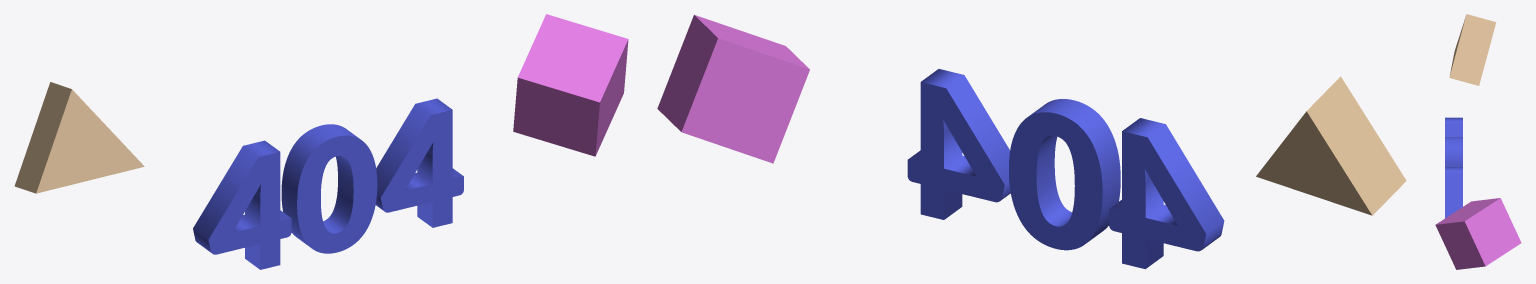
3 views of the same model, side by side, from view 1: azimuth 30°, elevation 25°; view 2: azimuth 150°, elevation 25°; view 3: azimuth 270°, elevation 25° (orthographic). The views are drawn at different scales.
Parts seen in each view (by area): view 1: Text, Cube, Plane; view 2: Text, Cube, Plane; view 3: Cube, Plane, Text.
Boxes of the visible parts, bbox=[...] form: Text: bbox=[193, 98, 463, 269]; Cube: bbox=[513, 14, 628, 156]; Plane: bbox=[14, 82, 144, 193]; Text: bbox=[907, 69, 1224, 269]; Cube: bbox=[657, 15, 809, 163]; Plane: bbox=[1256, 76, 1406, 215]; Cube: bbox=[1435, 198, 1521, 269]; Plane: bbox=[1449, 14, 1496, 85]; Text: bbox=[1445, 117, 1462, 218].
Size of the model in its own units: 3.66 by 1.2 by 0.7617.
